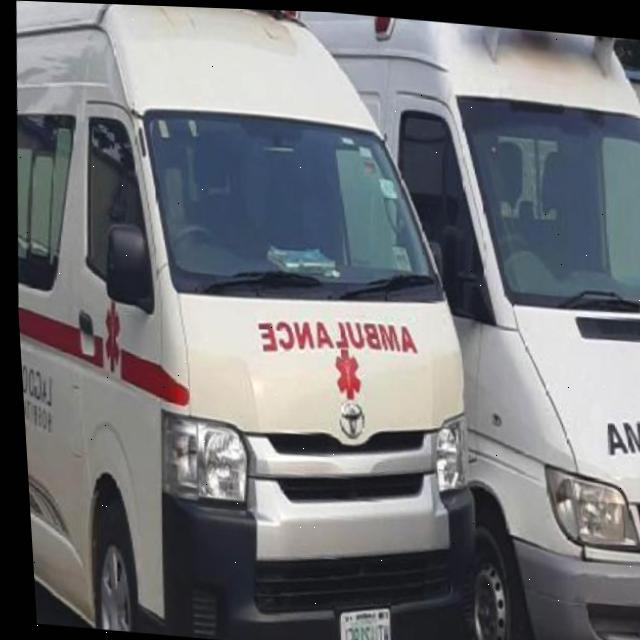emergency: (0, 0, 512, 640), (246, 7, 640, 640)
